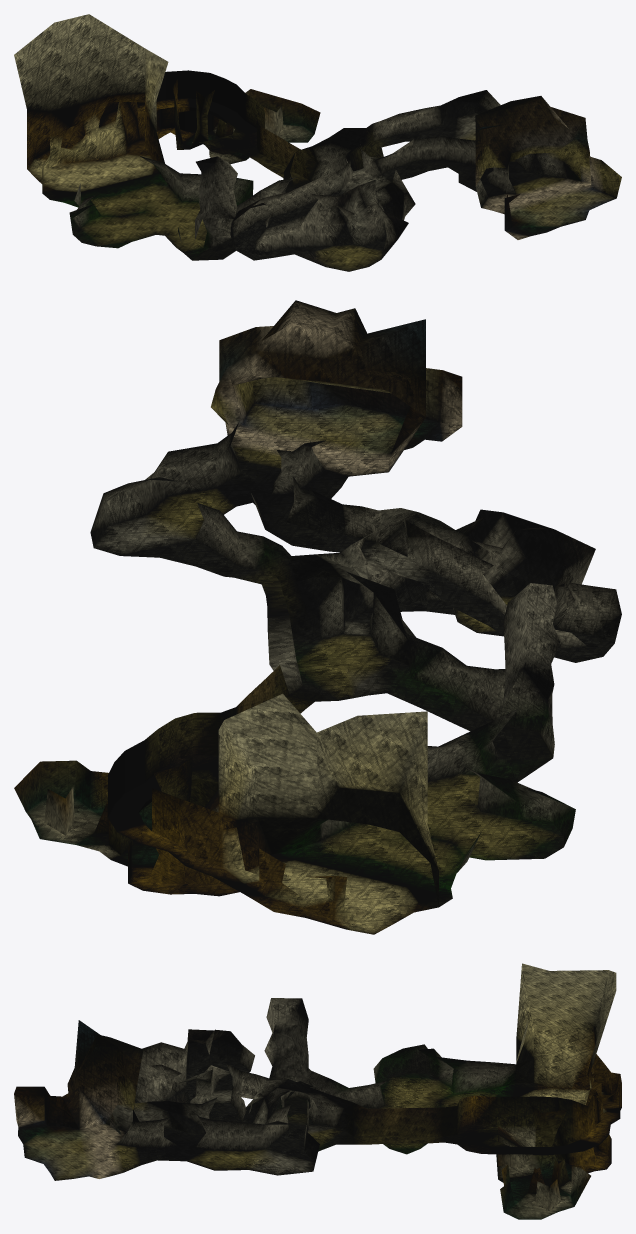
File: Caves.glb
3 renders of one model, top to bottom at view 1: azimuth 30°, elevation 25°; view 2: azimuth 150°, elevation 25°; view 3: azimuth 270°, elevation 25°, orthographic. The views are drawn at different scales.
Visible parts, largest first — view 1: Caves_0; view 2: Caves_0; view 3: Caves_0.
Boxes of the visible parts, bbox=[...] form: Caves_0: bbox=[14, 14, 621, 271]; Caves_0: bbox=[14, 300, 621, 934]; Caves_0: bbox=[14, 963, 621, 1219].
Bounding box in the file's own units: 112 × 49.62 × 149.
2 materials, 1 textured.
